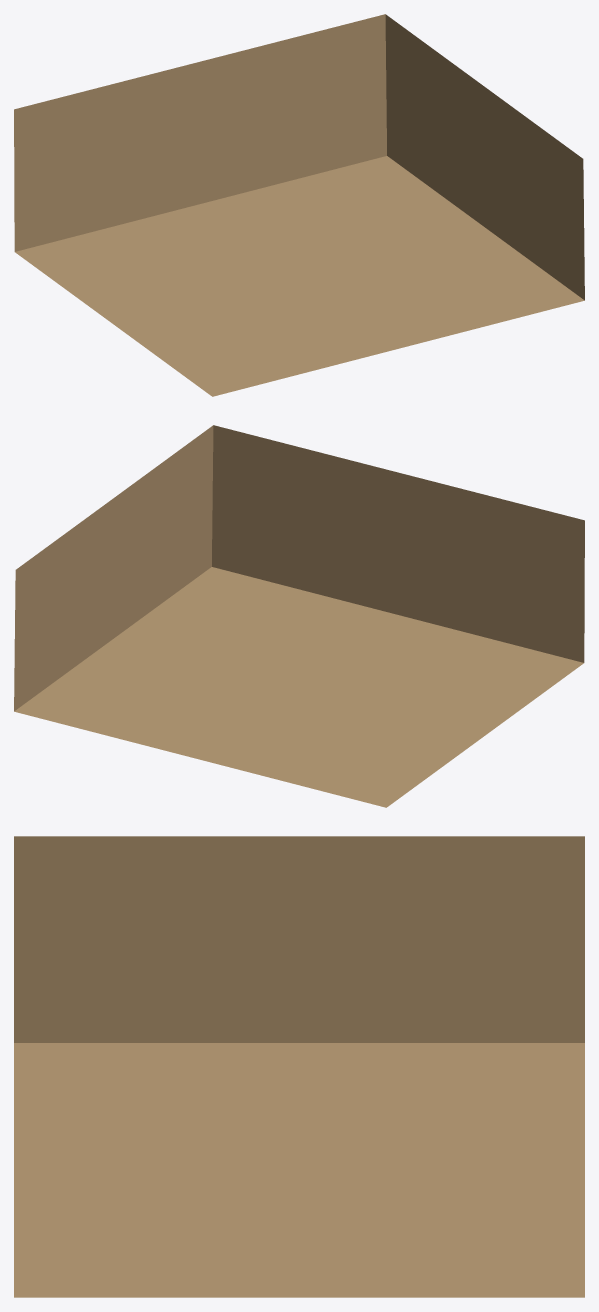
3 views of the same model, one above another, from view 1: azimuth 30°, elevation 25°; view 2: azimuth 150°, elevation 25°; view 3: azimuth 270°, elevation 25° (orthographic). The views are drawn at different scales.
Parts seen in each view (by area): view 1: 0_0_1_1_3_2_1_2; view 2: 0_0_1_1_3_2_1_2; view 3: 0_0_1_1_3_2_1_2.
Boxes of the visible parts, x1,y1,x2,y2 form: 0_0_1_1_3_2_1_2: (14, 14, 584, 396); 0_0_1_1_3_2_1_2: (14, 425, 584, 807); 0_0_1_1_3_2_1_2: (14, 836, 584, 1297).
Size of the model in its own units: 29.4 by 11.1 by 27.
